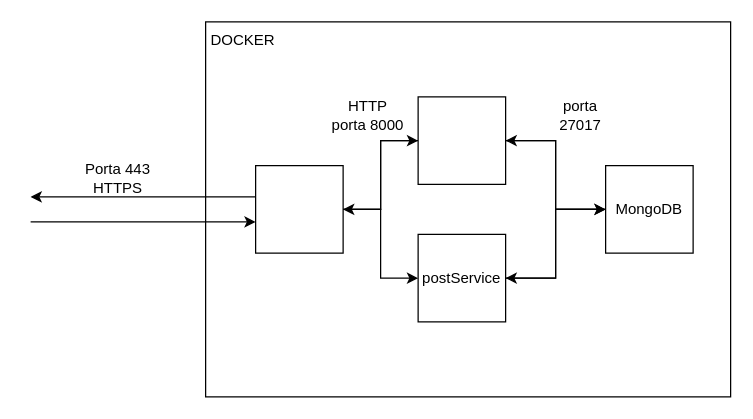
Some shapes in this 753 by 419 pixel diagram are drawn without their labels. The shapes that lost their labels are listed below. From the top down, each one's centre as x and y in pixels, then its label:
point 461,140: getService
point 298,208: NGINX
